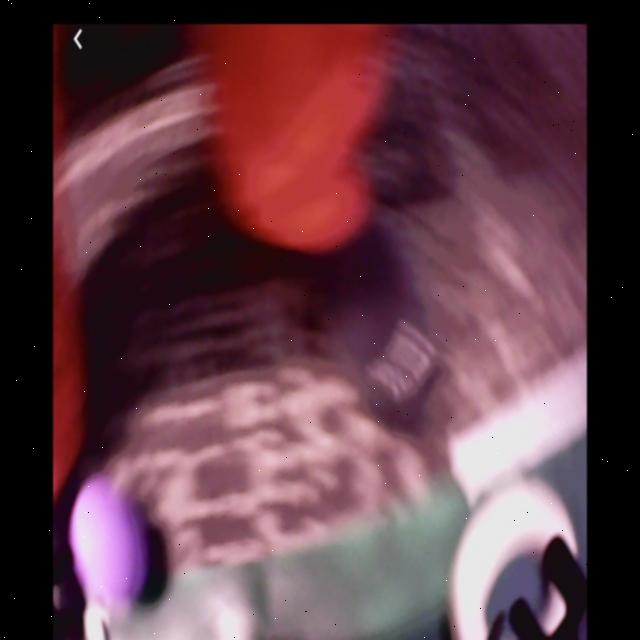ball: (70, 480, 149, 606)
